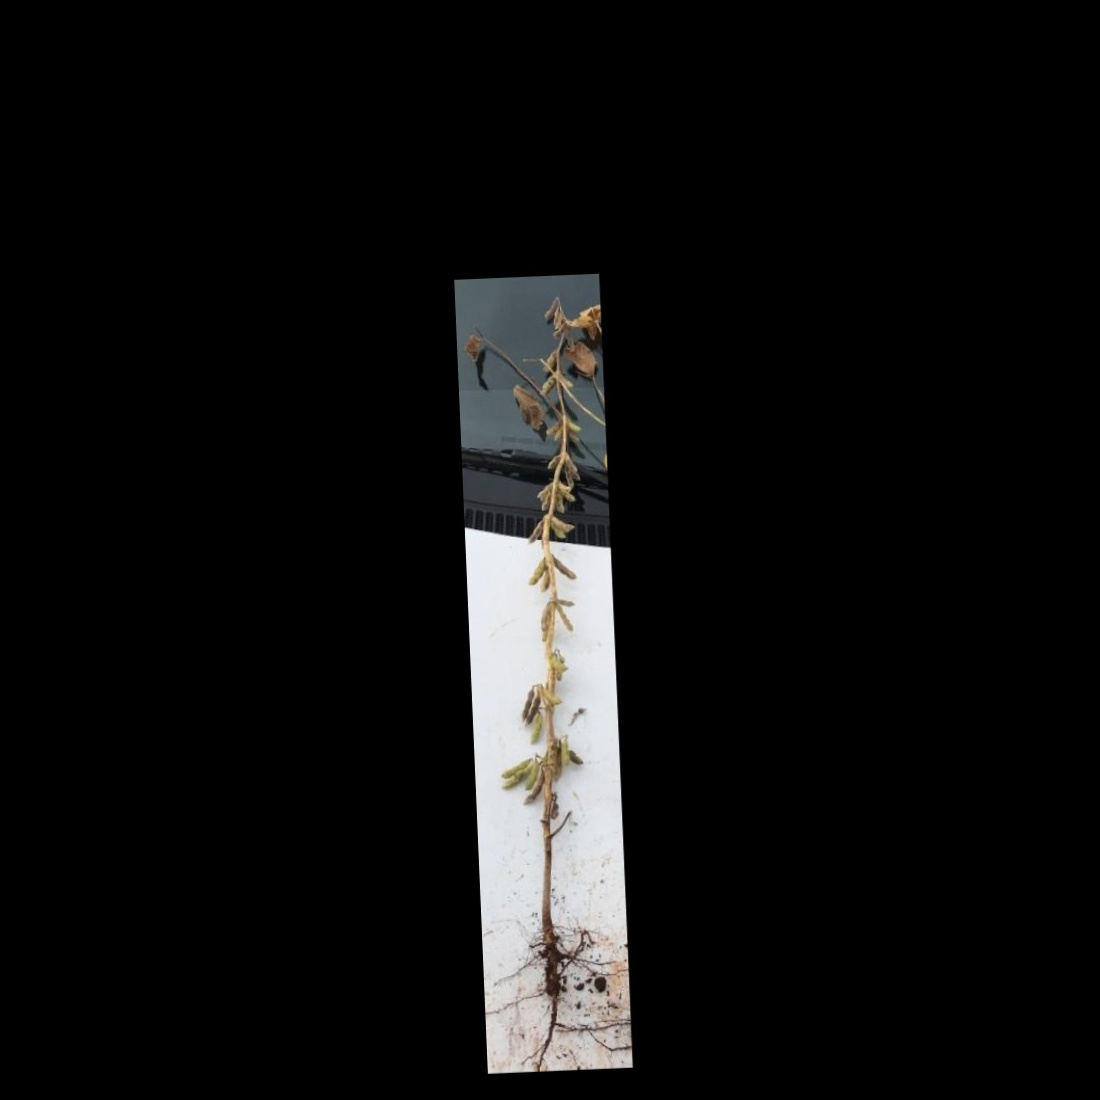pod: (552, 552, 579, 582), (556, 603, 575, 634), (529, 711, 543, 749), (523, 761, 540, 792), (541, 687, 565, 706), (568, 747, 587, 768), (561, 736, 570, 767)
soy: (465, 296, 627, 1046)
